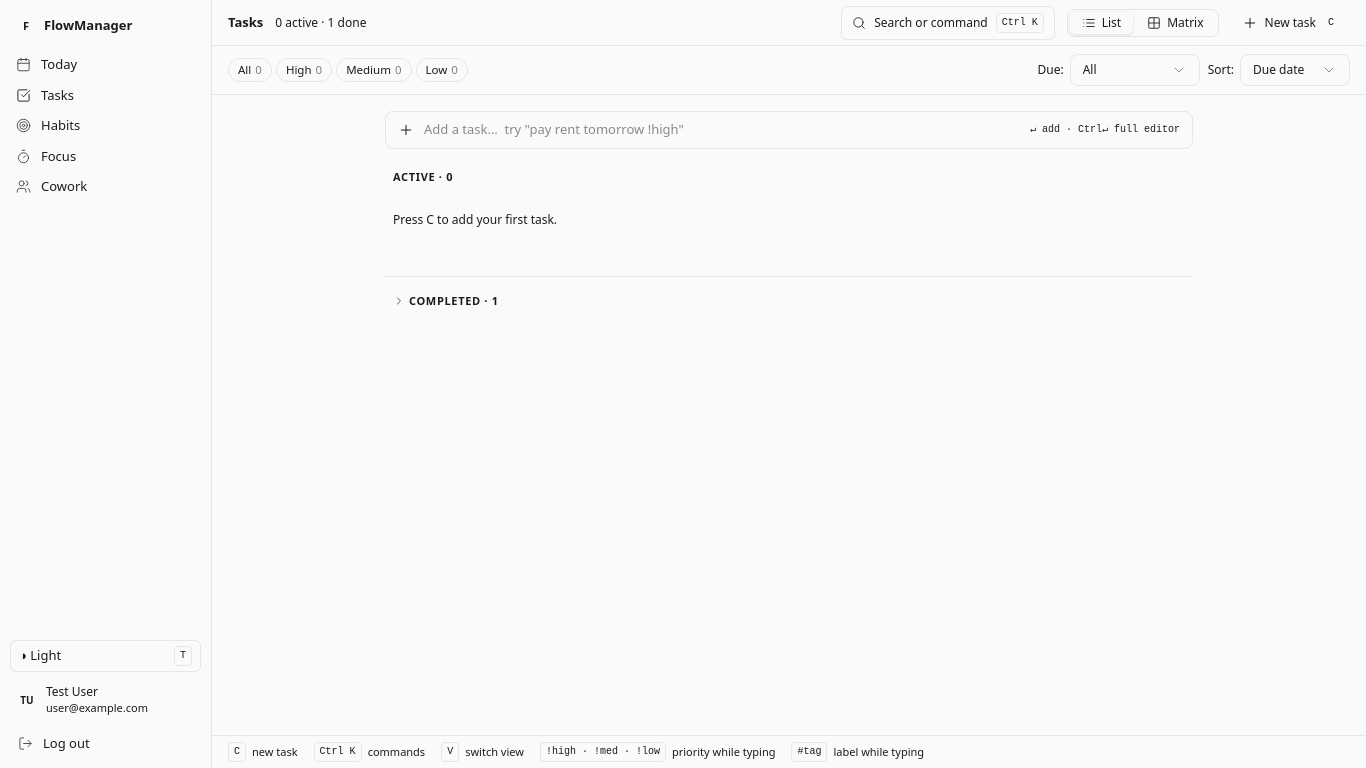
it: TasksPage › expands the completed section on click
Click the button "Completed · 1" at [446, 301], box [385,293,507,309]
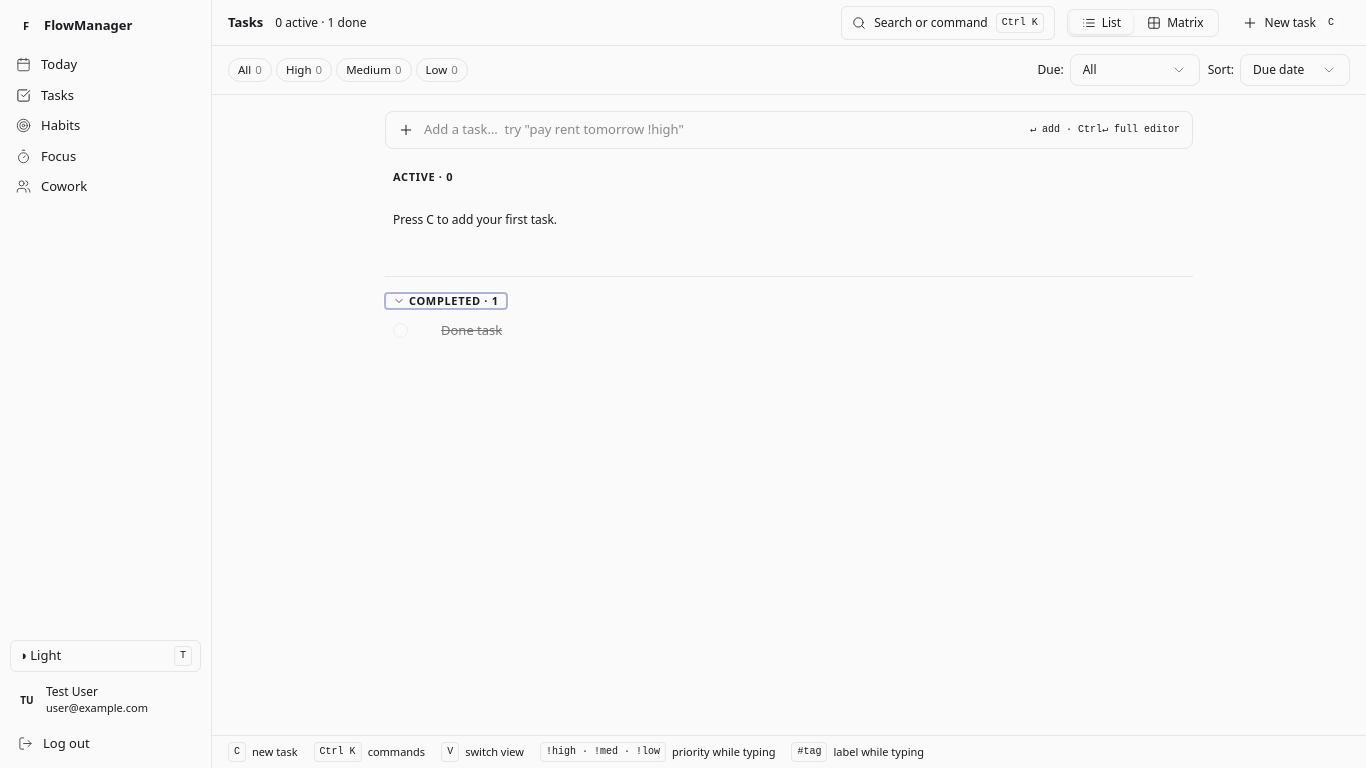
Now the text "Done task" is shown, box [441,321,502,340]
